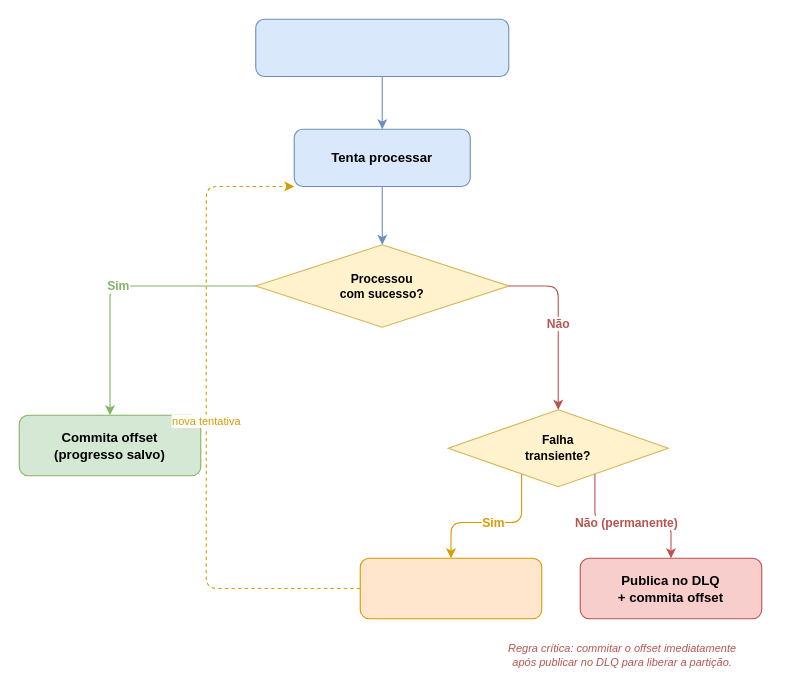
Some shapes in this 803 by 693 pixel diagram are drawn without their labels. The shapes that lost their labels are listed below. From the top down, each one's centre as x and y in pixels, then its label:
pixel 382 47: Consumer lê mensagem da partição
pixel 450 588: Retry com backoff exponencial
